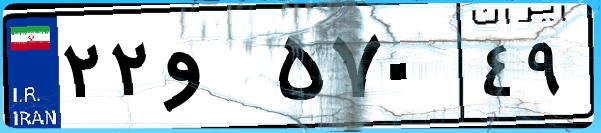0: (385, 28, 445, 110)
2: (57, 26, 110, 100), (110, 28, 158, 98)
4: (475, 38, 525, 113)
5: (270, 28, 330, 110)
7: (330, 28, 385, 110)
9: (525, 38, 570, 115)
و: (158, 20, 270, 120)
